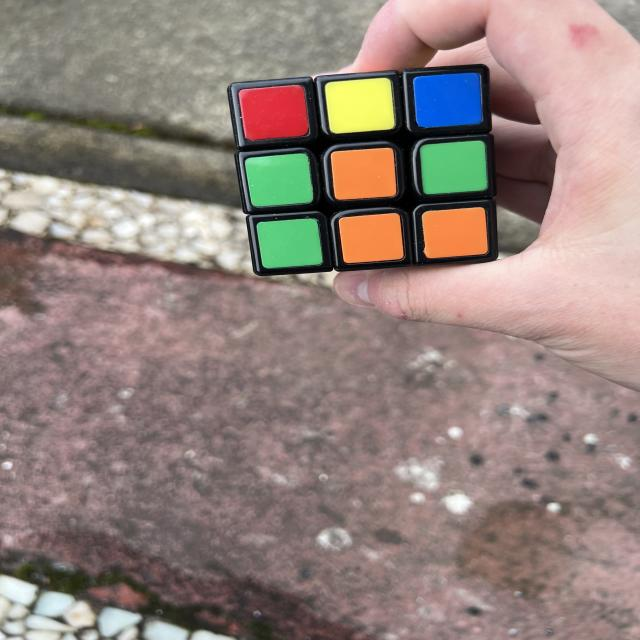blue: (413, 72, 483, 129)
center: (328, 146, 398, 201)
green: (417, 139, 489, 196), (244, 151, 314, 209), (255, 215, 323, 269)
orange: (328, 146, 398, 201), (421, 206, 489, 259), (338, 212, 404, 264)
red: (238, 84, 310, 142)
yellow: (323, 76, 396, 135)
